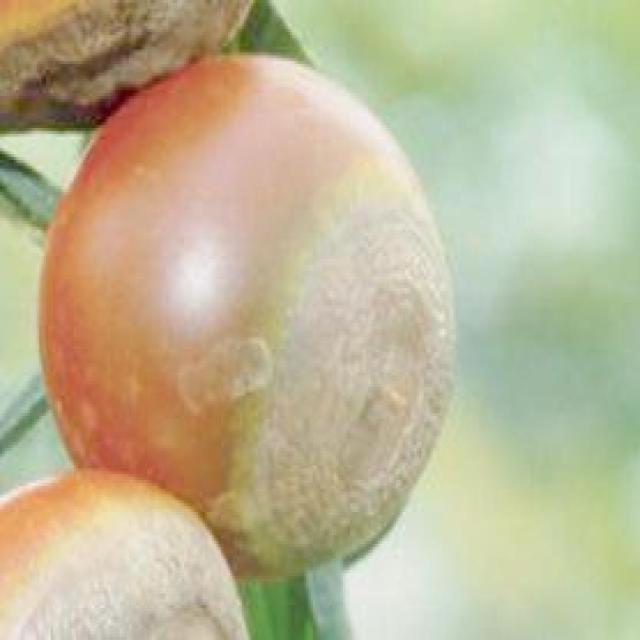Blossom End Rot Fruit: (90, 45, 238, 380)
